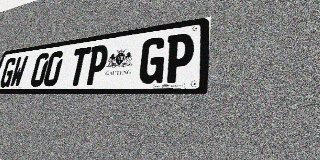0: (42, 50, 65, 86), (29, 52, 51, 87)
G: (137, 36, 167, 84), (0, 57, 18, 88)
P: (163, 32, 195, 83), (84, 44, 110, 85)
T: (67, 47, 91, 86)
W: (9, 55, 29, 87)
